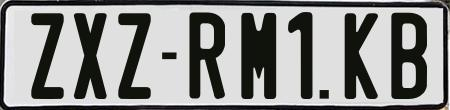1: (287, 9, 318, 100)
B: (390, 12, 427, 100)
K: (344, 13, 383, 103)
M: (241, 13, 277, 100)
R: (188, 11, 227, 103)
X: (72, 11, 106, 102)
Z: (116, 10, 155, 102), (28, 13, 62, 105)
